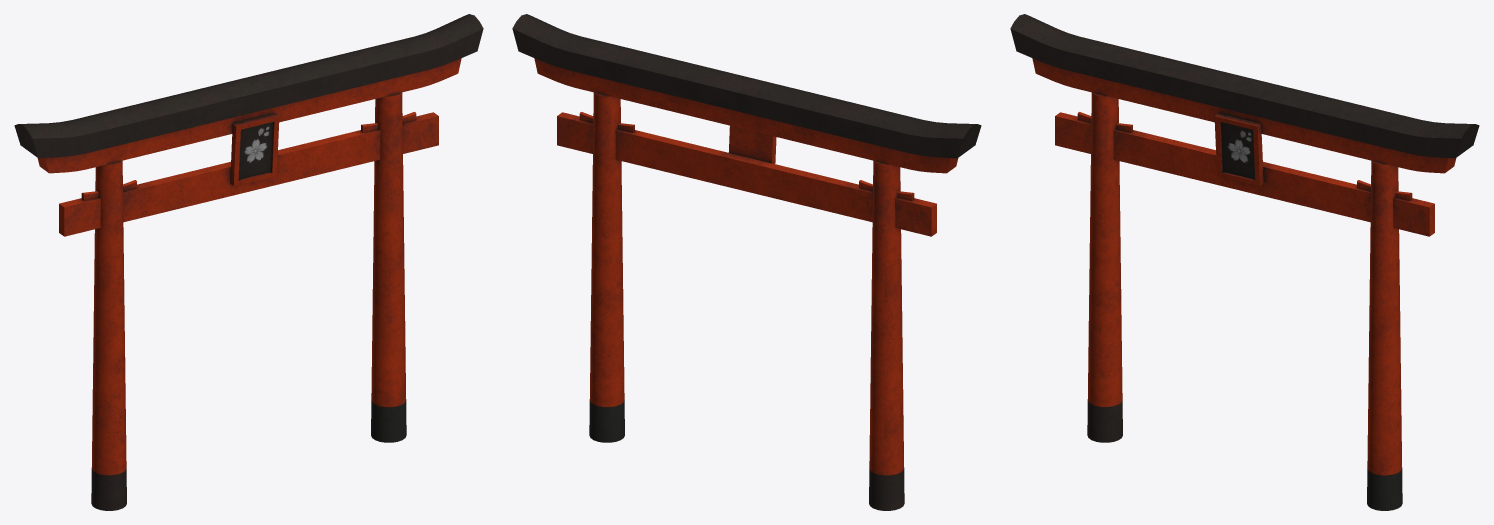
File: torii.glb
The picture shows the model from 3 angles, left to right: view 1: azimuth 30°, elevation 25°; view 2: azimuth 150°, elevation 25°; view 3: azimuth 330°, elevation 25°; orthographic projection.
Parts seen in each view (by area): view 1: Plane.007; view 2: Plane.007; view 3: Plane.007.
Part boxes in pixels (box(x1,y1,x2,y2)): Plane.007: box(14, 14, 483, 510); Plane.007: box(512, 14, 981, 510); Plane.007: box(1010, 14, 1479, 510).
Bounding box in the file's own units: 324 × 273 × 22.45.
1 material, 1 textured.
